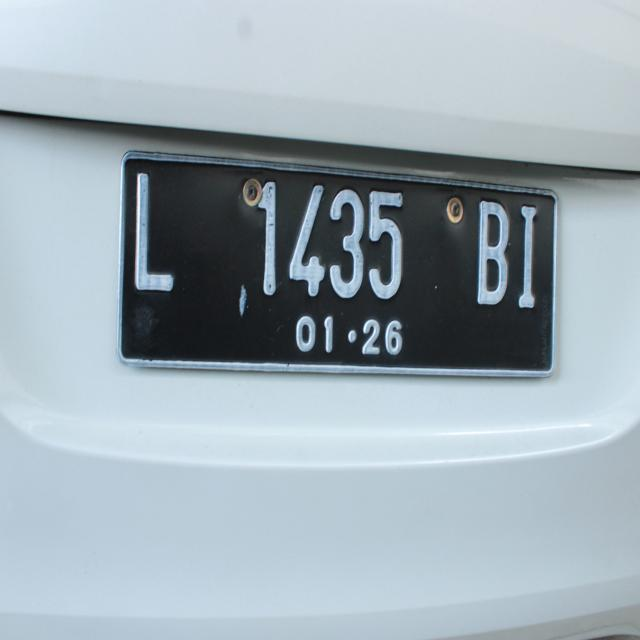1: (122, 153, 184, 308), (238, 175, 288, 312)
3: (327, 171, 367, 305)
4: (284, 169, 326, 305)
5: (366, 170, 413, 308)
B: (470, 186, 513, 314)
I: (506, 187, 549, 327)
